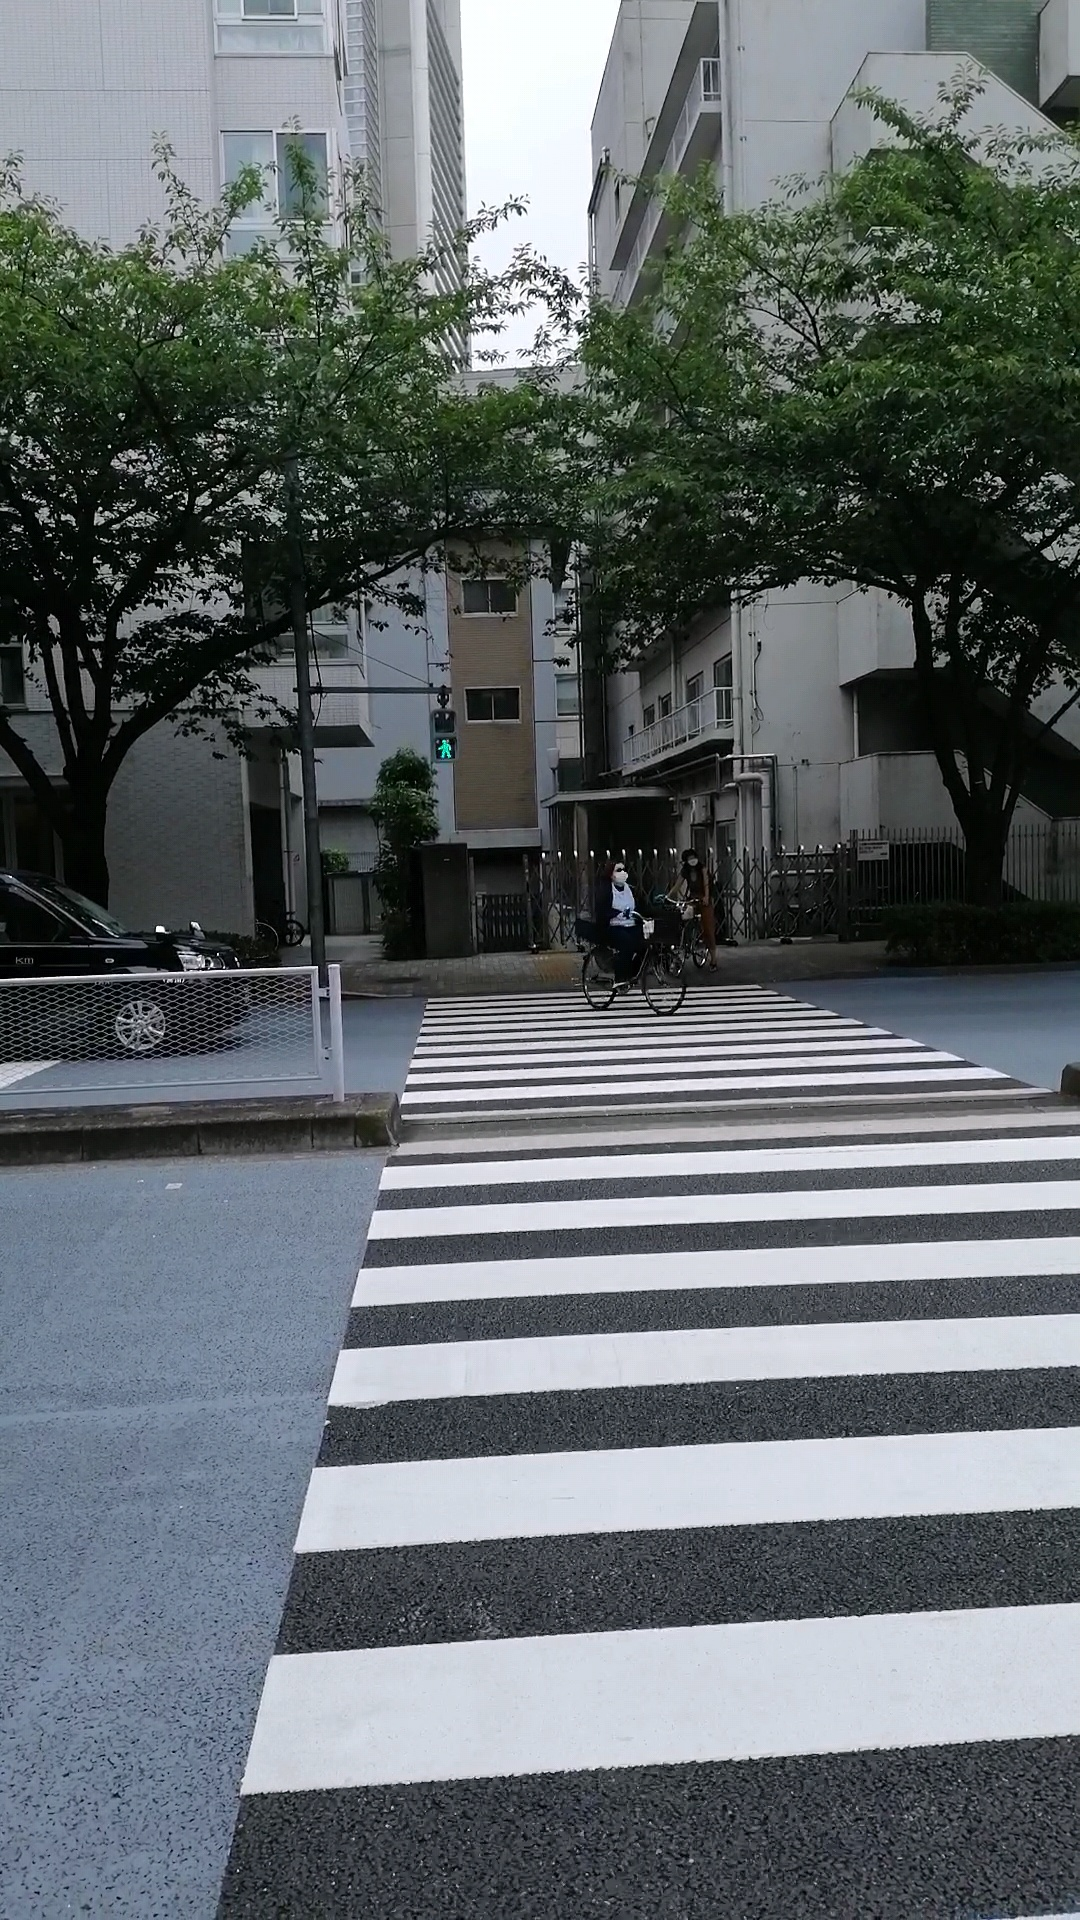green: (429, 709, 459, 764)
